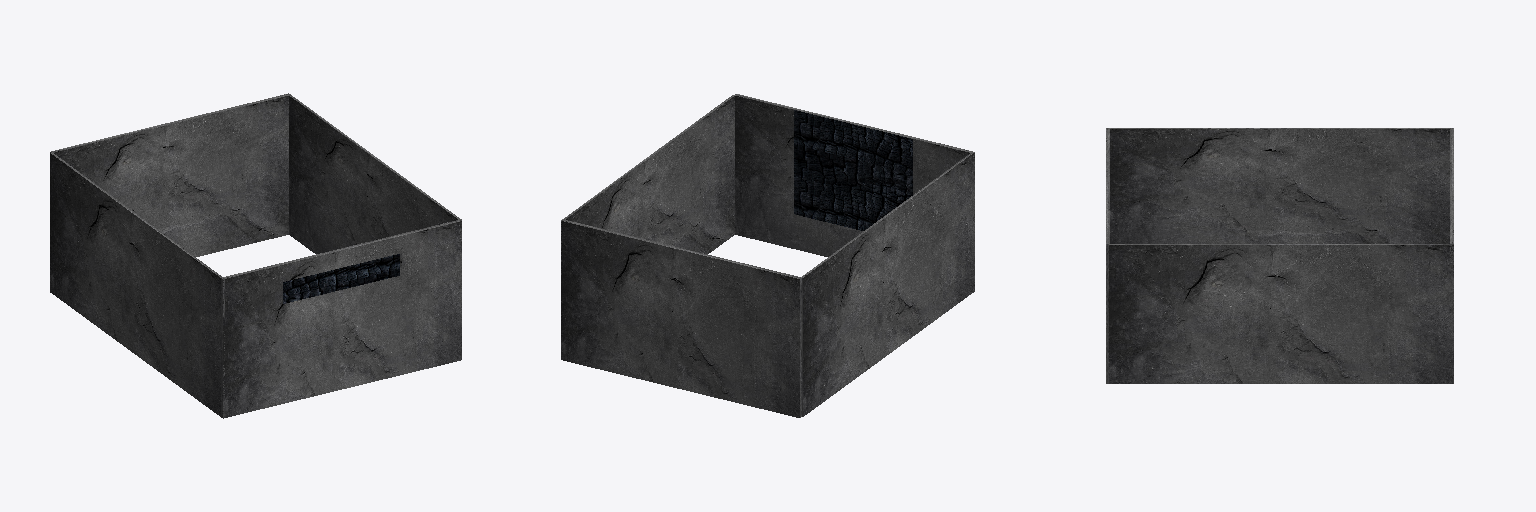
3 renders of one model, left to right at view 1: azimuth 30°, elevation 25°; view 2: azimuth 150°, elevation 25°; view 3: azimuth 270°, elevation 25°, orthographic.
Parts seen in each view (by area): view 1: pCube10; view 2: pCube10; view 3: pCube10.
Boxes of the visible parts, box(x1,y1,x2,y2) form: pCube10: box(50, 93, 461, 418); pCube10: box(561, 94, 974, 417); pCube10: box(1106, 128, 1453, 383).
Bounding box in the file's own units: 10.83 × 5.99 × 13.58.
Materials: 3 (2 with a texture image).